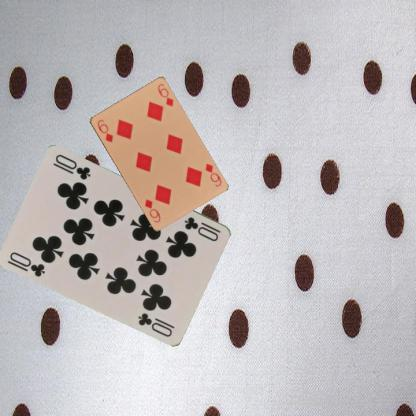10c: (7, 249, 47, 279), (182, 214, 223, 243)
6d: (202, 160, 223, 188), (94, 117, 115, 144)
